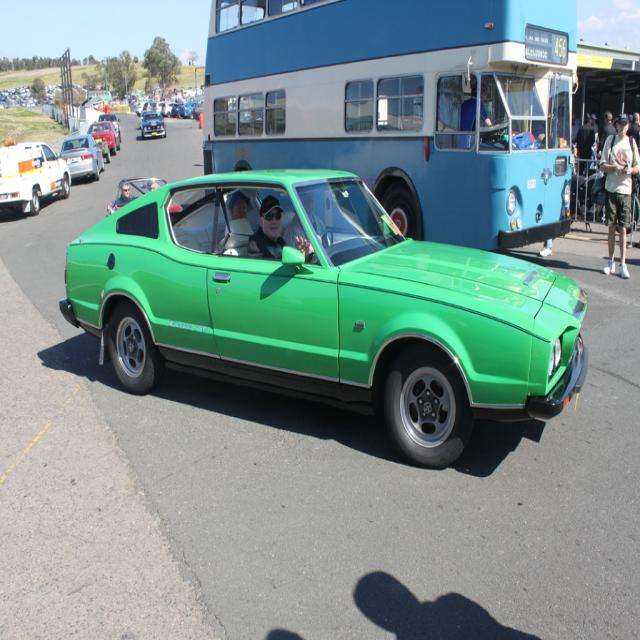car: (59, 169, 590, 471)
